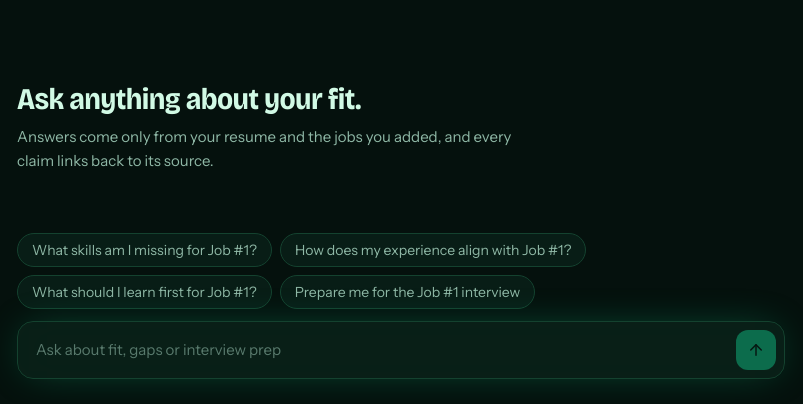
Scenario: ChatPanel › shows an error message when the stream fails
Type "hi" into the text box named "Ask a question". click: (377, 350)
box: [26,330,728,370]
Then press Enter
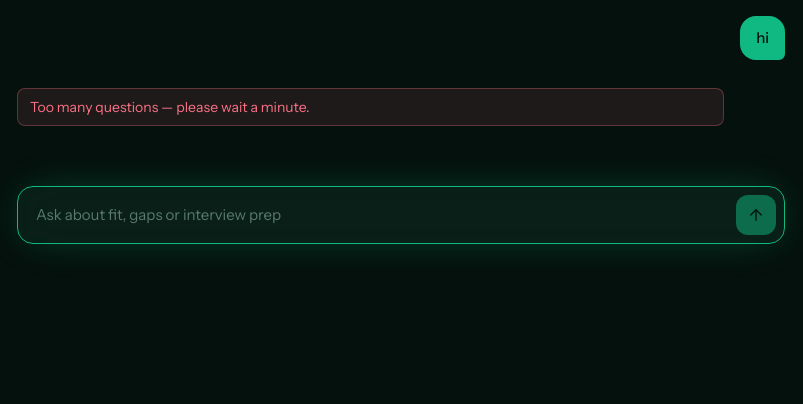
Expected: the text "Too many questions — please wait a minute." is shown, [17,88,724,126]
